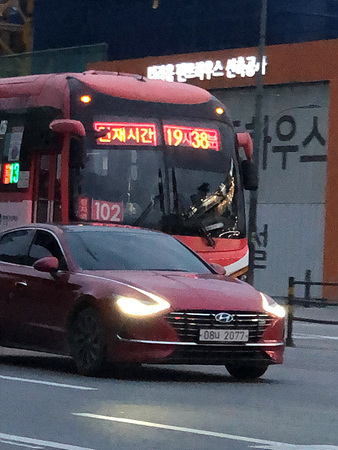bnum: (91, 200, 123, 222)
